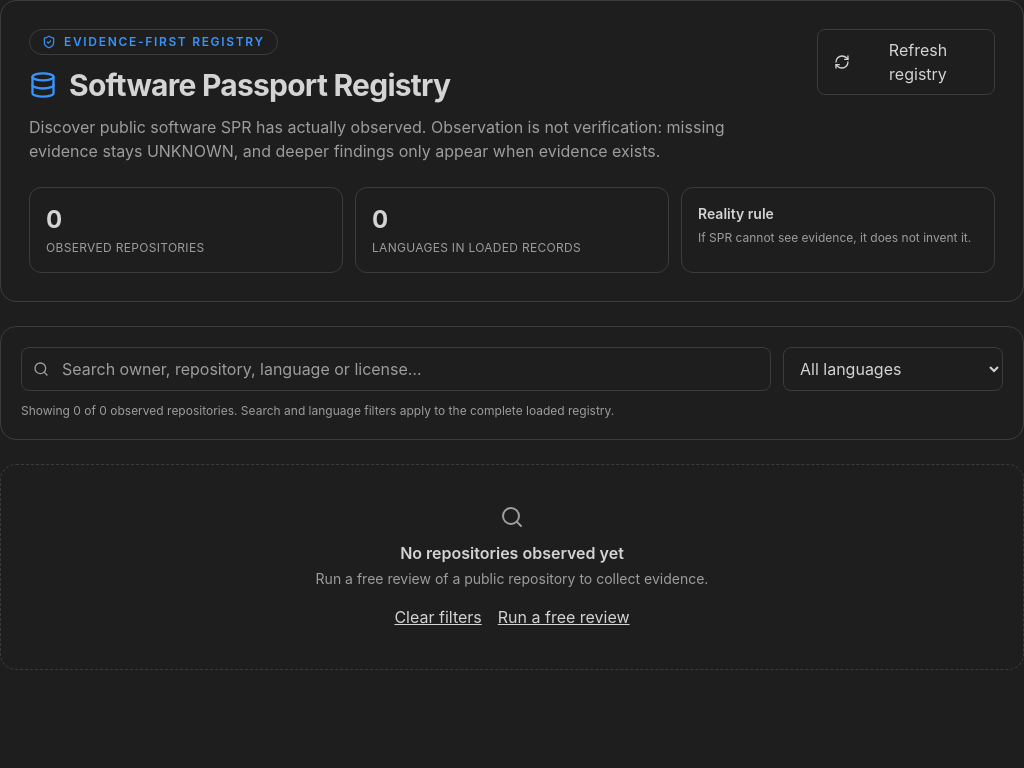
Scenario: public registry visitor next steps › distinguishes an empty registry and removes stale totals after failed refresh
Expected: the text "No repositories observed yet" is shown, [400,543,624,563]
Click the button "Refresh registry": (906, 62) [817,29,995,95]
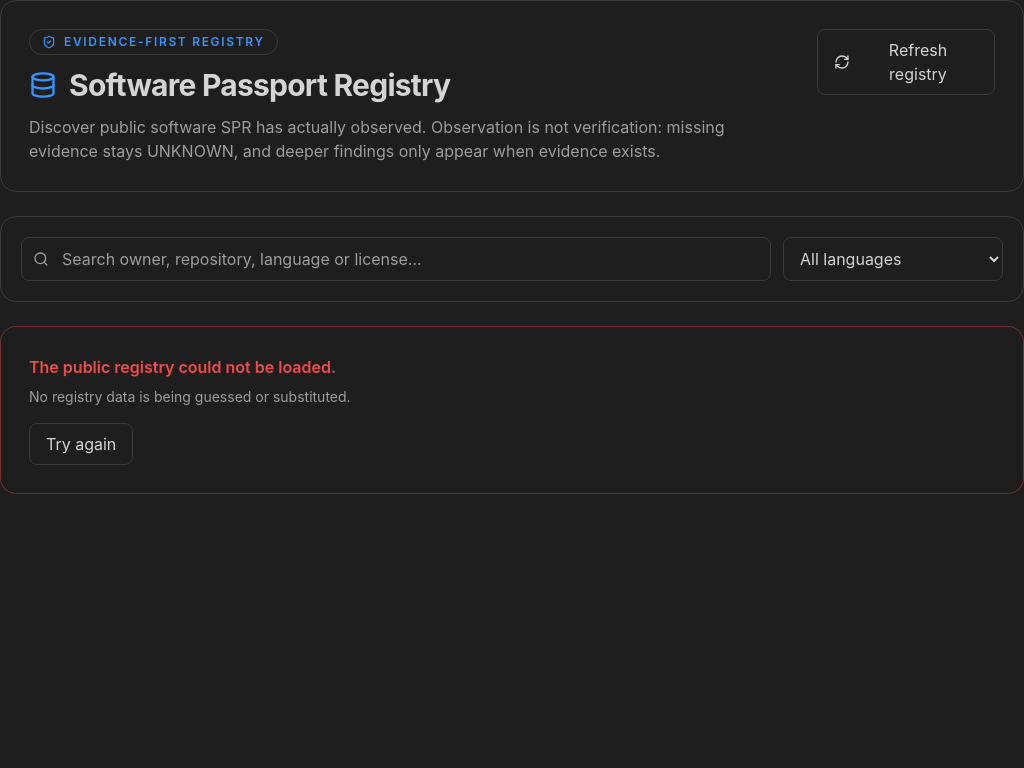
Expected: the message is shown, [0,326,1023,494]
Expected: the text "Observed repositories" is gone
